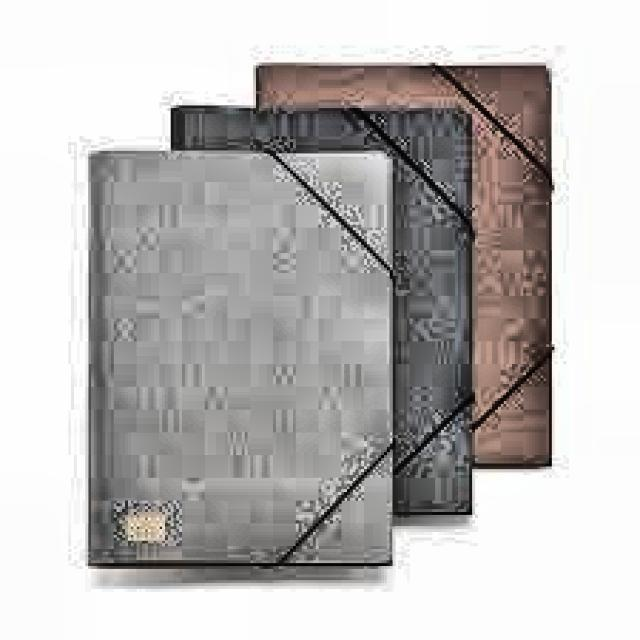cardboard: (86, 145, 396, 566), (168, 99, 475, 515), (253, 59, 552, 470)
